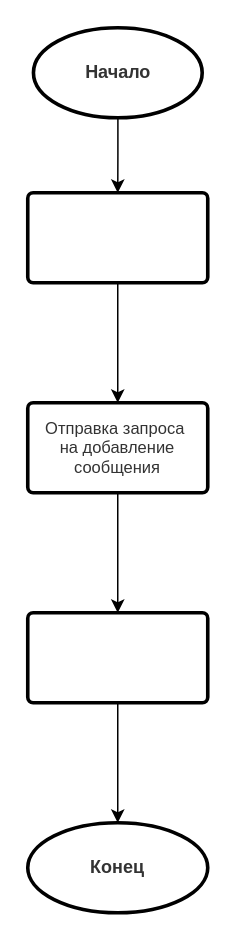
Image size: 236x941. Some labels were removed from this diagram. The shapes that lost their labels are listed below. From the top down, each one's box as (x1, y1, x2, y2) in pixels, then its label:
(25, 190, 209, 284): Заполнение полей
(25, 610, 209, 704): Загрузка нового сообщения в ленту
